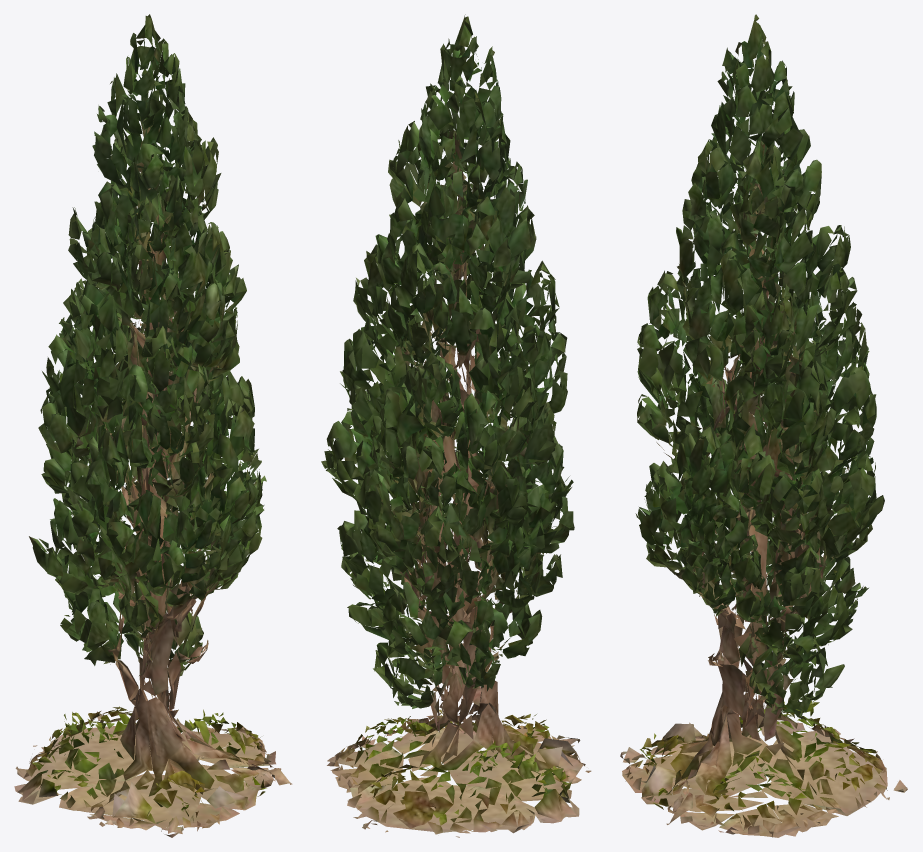
File: base_basic_pbr.glb
The picture shows the model from 3 angles, left to right: view 1: azimuth 30°, elevation 25°; view 2: azimuth 150°, elevation 25°; view 3: azimuth 270°, elevation 25°; orthographic projection.
Visible parts, largest first — view 1: model; view 2: model; view 3: model.
Part boxes in pixels (x1,y1,x2,y2): model: [14, 14, 292, 837]; model: [321, 14, 591, 837]; model: [620, 14, 907, 837].
Size of the model in its own units: 0.6368 by 1.91 by 0.6506.
Materials: 1 (1 with a texture image).
